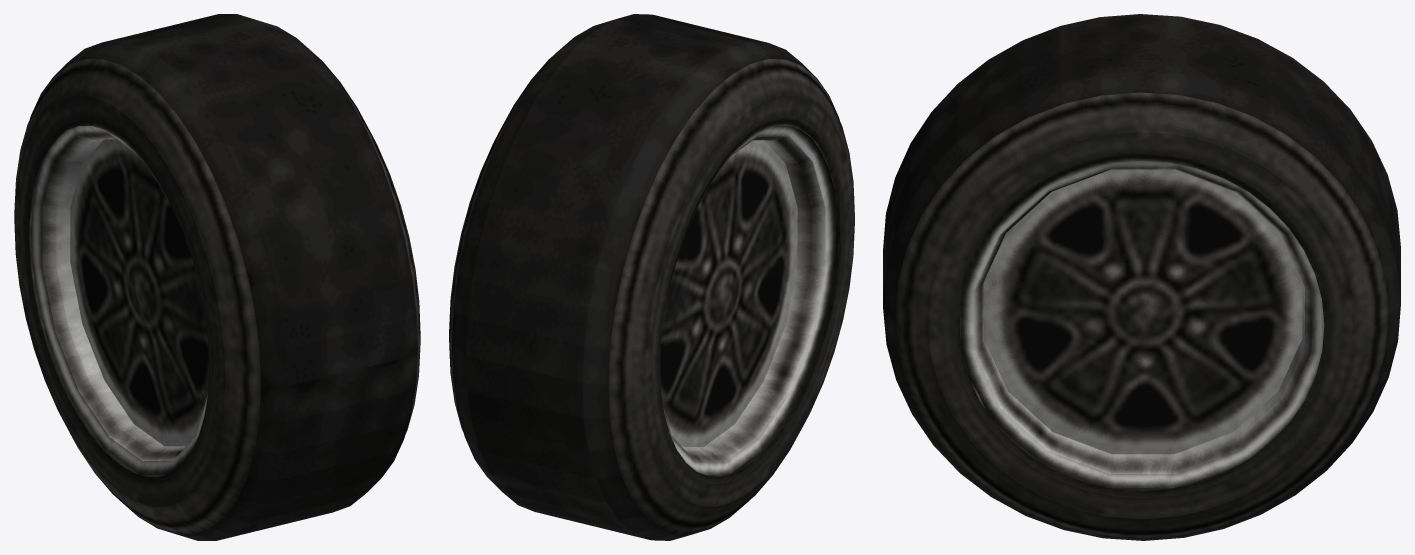
File: vehicle_boltz_930turbo_Wheel.fbx
3 views of the same model, side by side, from view 1: azimuth 30°, elevation 25°; view 2: azimuth 150°, elevation 25°; view 3: azimuth 270°, elevation 25° (orthographic).
Parts seen in each view (by area): view 1: boltz_930turbo_Wheel; view 2: boltz_930turbo_Wheel; view 3: boltz_930turbo_Wheel.
Boxes of the visible parts, x1,y1,x2,y2 form: boltz_930turbo_Wheel: [14, 14, 420, 540]; boltz_930turbo_Wheel: [449, 14, 854, 540]; boltz_930turbo_Wheel: [883, 14, 1400, 540].
Size of the model in its own units: 0.3529 by 0.7861 by 0.7861.
